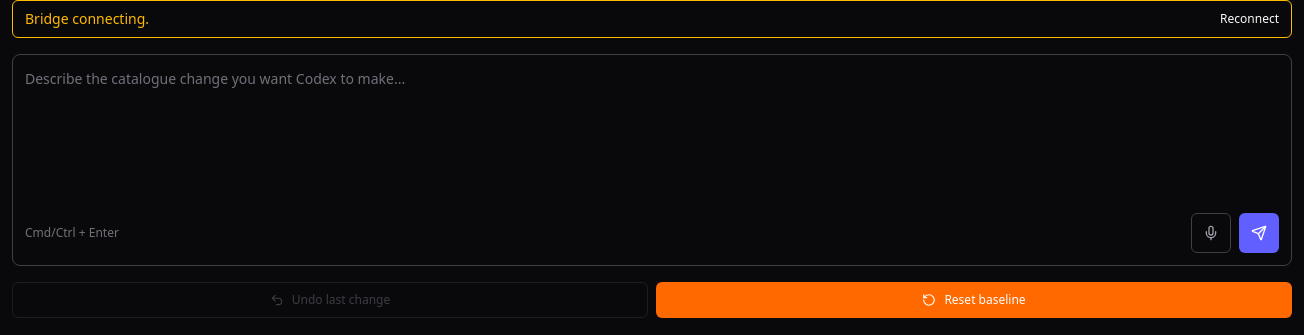
it: FeatureRequest › toggles feature request recording on click and transcribes the result
Click the button named "Record feature request": (1211, 233) [1191,213,1231,253]
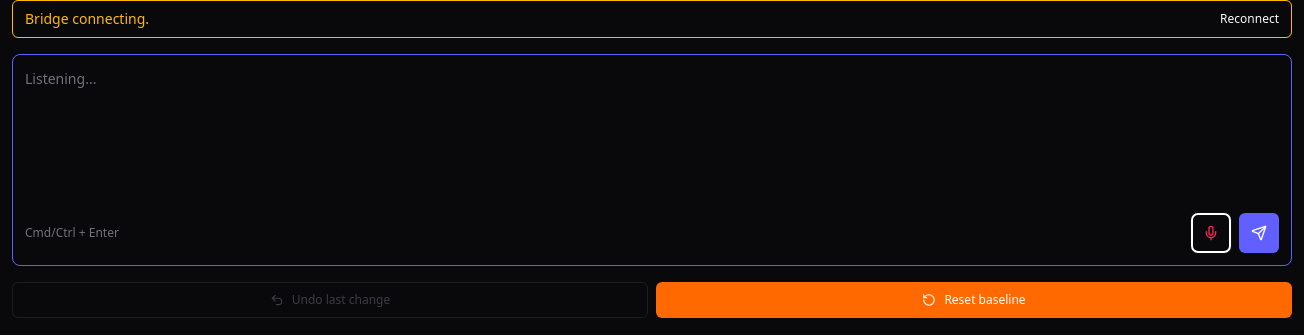
Expected: the text box with placeholder "Listening..." is shown, [25,67,1279,195]
Click the button named "Stop recording feature request": (1211, 233) [1191,213,1231,253]
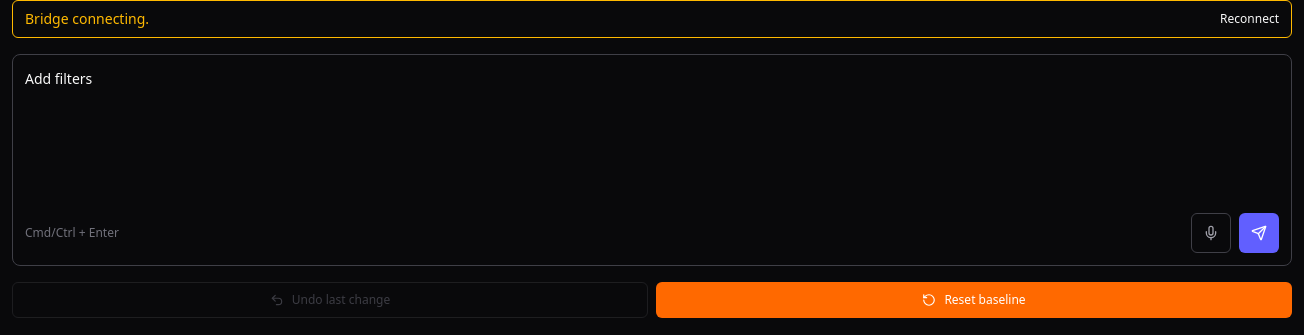
Expected: the text box showing "Add filters" is shown, [25,67,1279,195]
